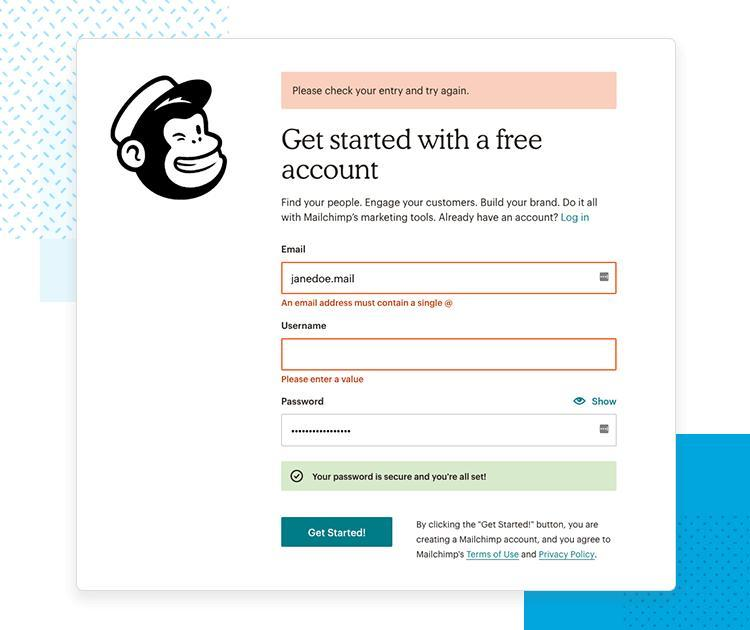button: (283, 519, 394, 549)
input: (283, 337, 617, 373), (282, 414, 620, 449), (285, 261, 619, 296)
label: (281, 392, 334, 414), (280, 316, 334, 335), (280, 244, 311, 257)
